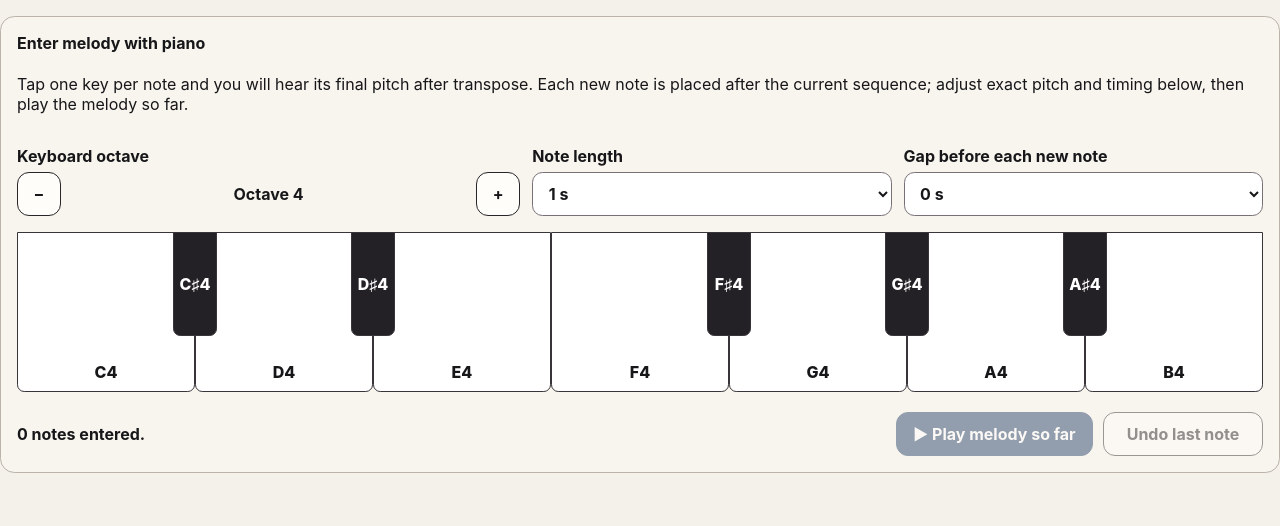
Test: MelodyKeyboard › keeps the entered note and exposes an alert when audible preview fails
Click the button named "Add A4" at coordinates (996, 312), box [907,232,1085,392]
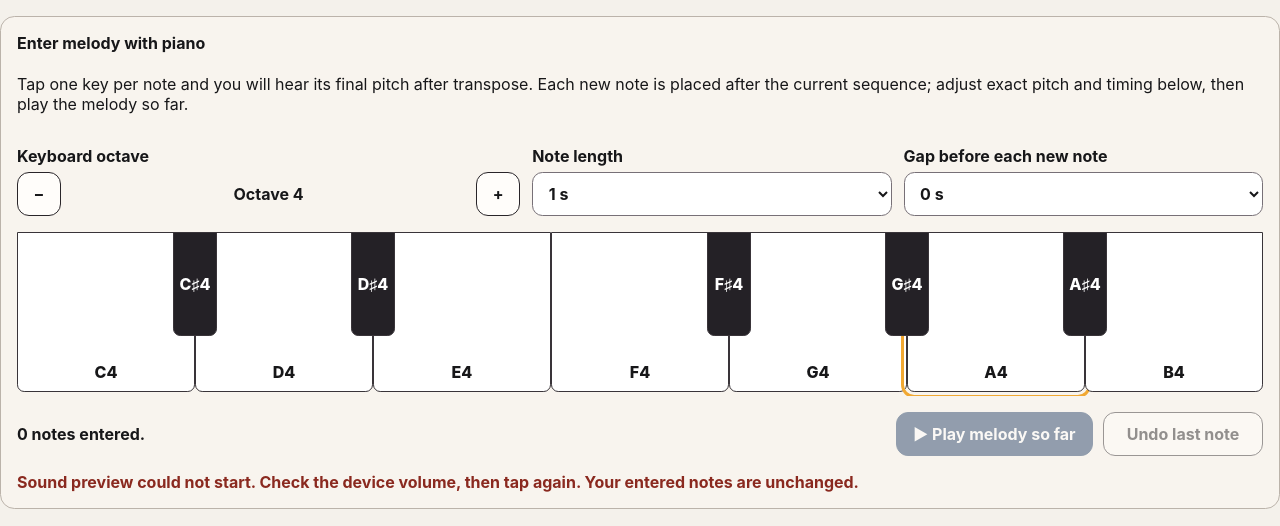
Now the message shows "Sound preview could not start. Check the device volume, then tap again. Your entered notes are unchanged.", box [17,472,859,492]
